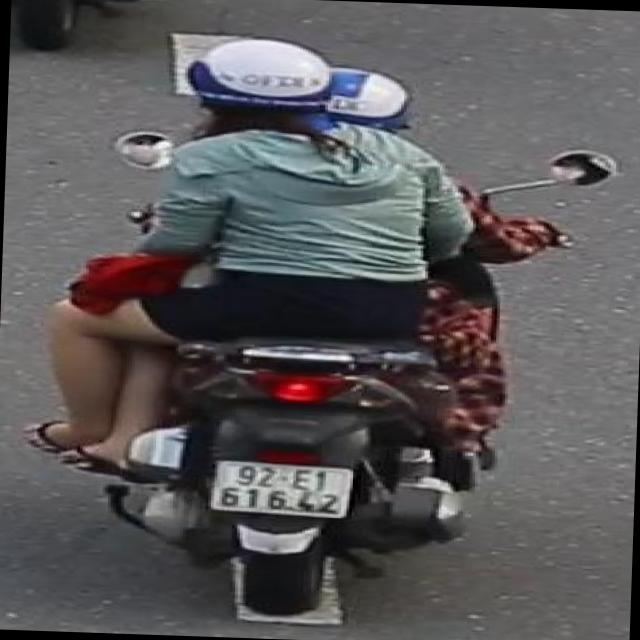LP: (208, 454, 358, 522)
helmet: (176, 30, 336, 120), (318, 57, 429, 132)
